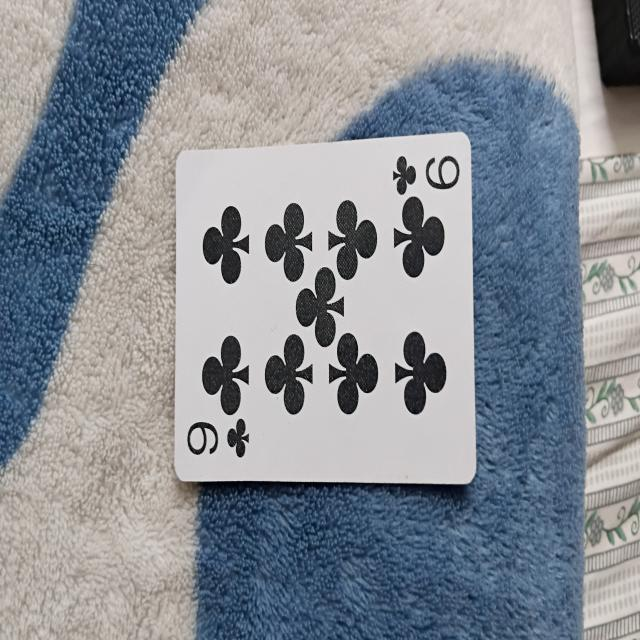9C: (174, 130, 475, 487)
